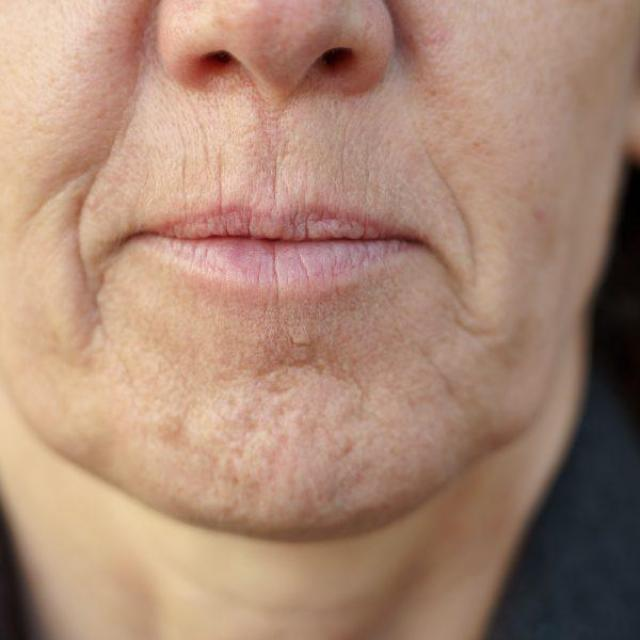Wrinkles: (25, 40, 146, 394), (419, 120, 506, 338)
